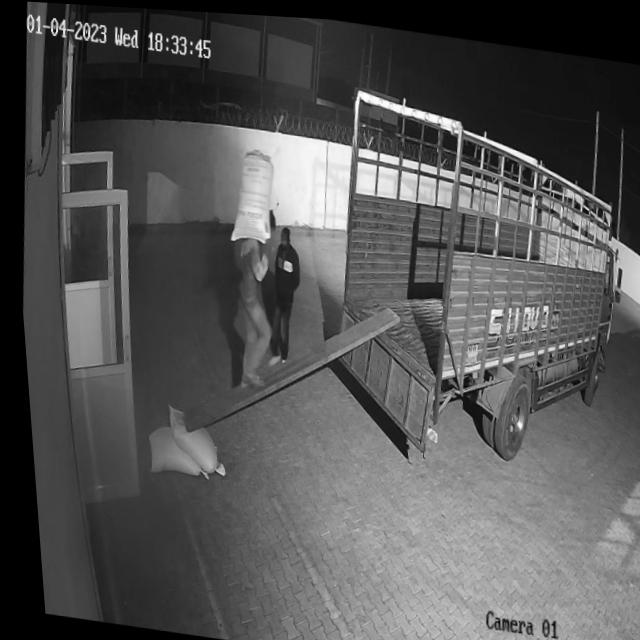sack: (221, 143, 275, 243), (155, 401, 225, 473), (137, 422, 206, 478)
